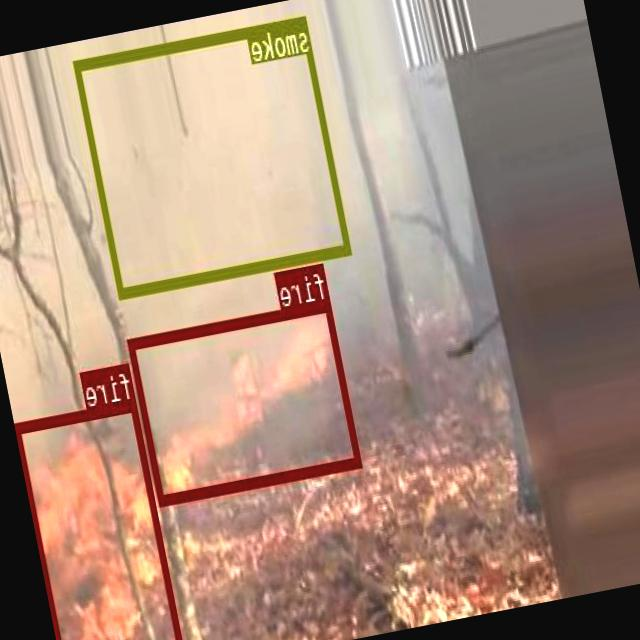fire: (128, 298, 362, 504), (15, 399, 189, 640)
smoke: (75, 15, 352, 298)
